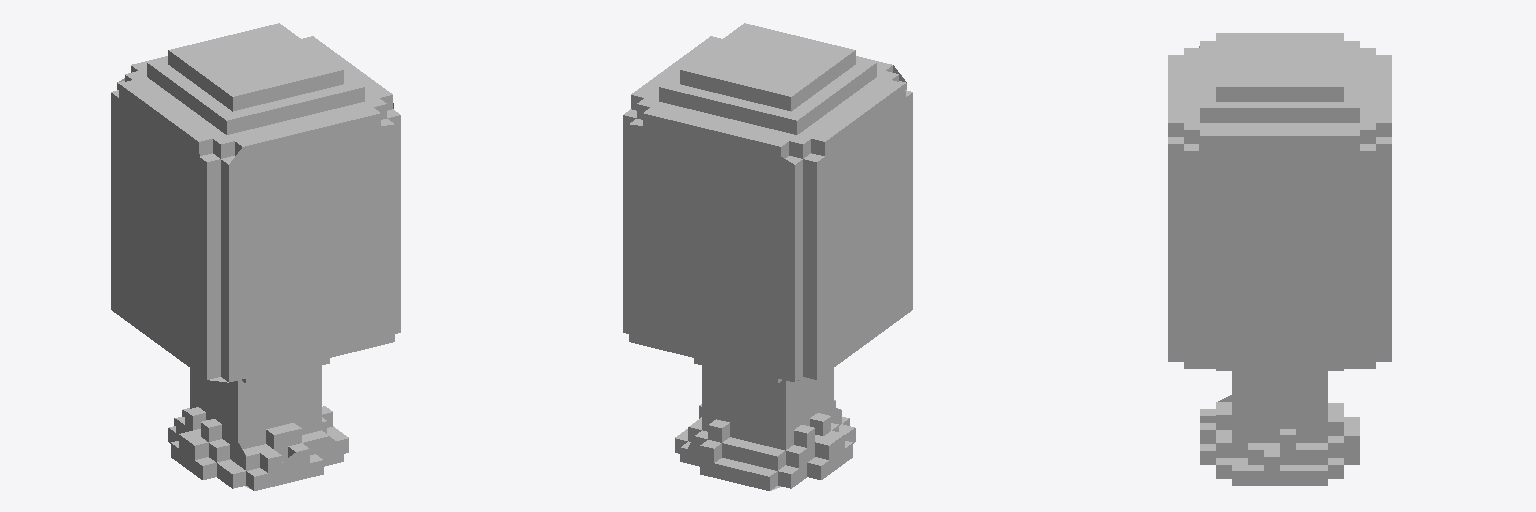
The model's file is Tree.obj.
3 views of the same model, side by side, from view 1: azimuth 30°, elevation 25°; view 2: azimuth 150°, elevation 25°; view 3: azimuth 270°, elevation 25° (orthographic).
Size of the model in its own units: 1.4 by 2.7 by 1.4.